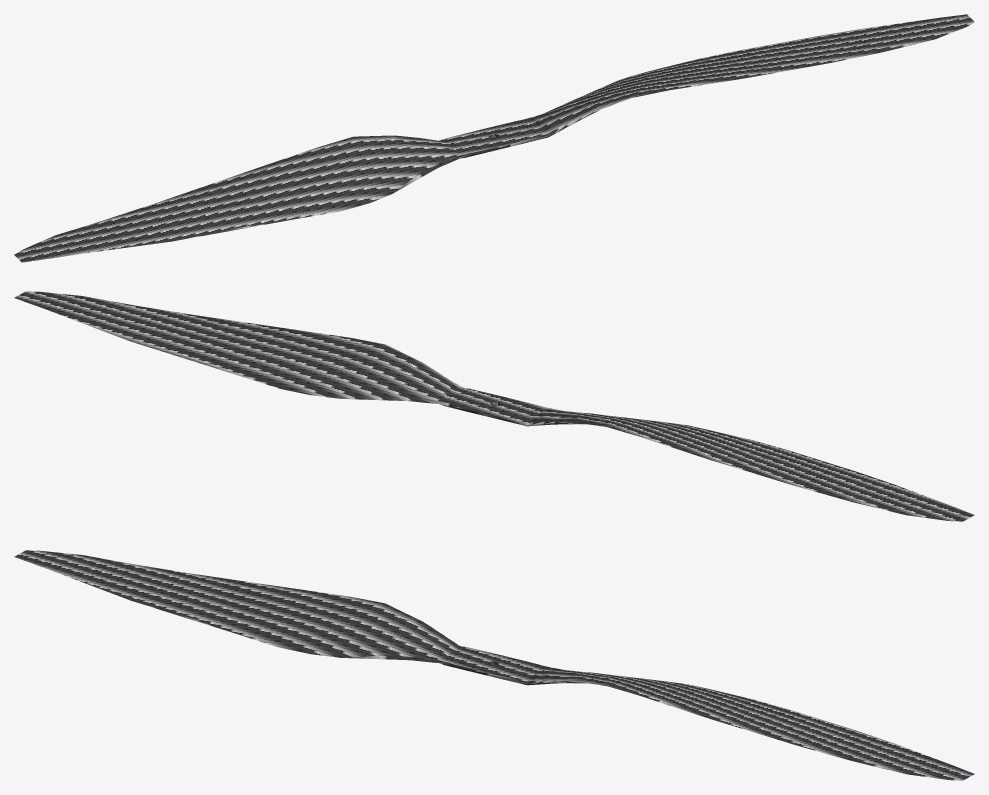
The model's file is prop_mesh_file.dae.
3 views of the same model, one above another, from view 1: azimuth 30°, elevation 25°; view 2: azimuth 150°, elevation 25°; view 3: azimuth 330°, elevation 25° (orthographic). The views are drawn at different scales.
Visible parts, largest first — view 1: Prop Cw Mesh File; view 2: Prop Cw Mesh File; view 3: Prop Cw Mesh File.
Boxes of the visible parts, x1=… form: Prop Cw Mesh File: x1=14, y1=14, x2=974, y2=262; Prop Cw Mesh File: x1=14, y1=291, x2=974, y2=521; Prop Cw Mesh File: x1=14, y1=550, x2=974, y2=780.
Bounding box in the file's own units: 0.3379 × 0.0404 × 0.0086.
1 material, 1 textured.
